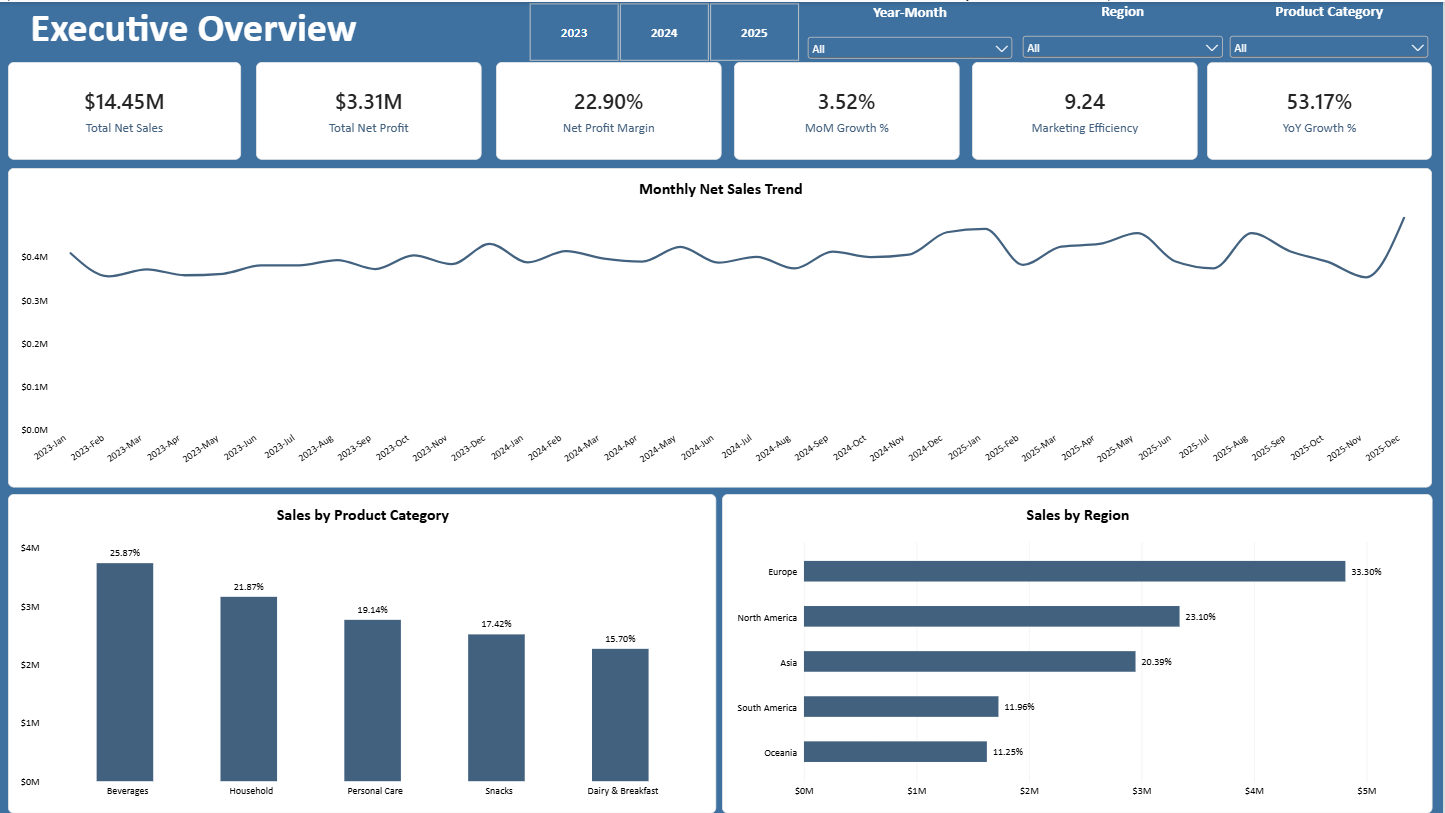

What the dashboard file says about the page in this screenshot:
{"tool":"powerbi","page":{"name":"Executive Overview","canvas":[1920,1080],"ordinal":0},"visuals":[{"type":"textbox","box":[0,1.5,721.1,78.6],"z":0},{"type":"slicer","title":"Year-Month","fields":{"Values":["Calendar Table.Year-Month"]},"box":[1071.4,1.5,282,78.3],"z":0,"group":"g1"},{"type":"slicer","fields":{"Values":["Calendar Table.Year"]},"box":[685.1,0,397.6,80.1],"z":1000,"group":"g1"},{"type":"card","fields":{"Values":["Measure Table.Total Net Sales"]},"box":[12.2,80.1,309.6,130.4],"z":1000},{"type":"slicer","title":"Region","fields":{"Values":["Working_01.Region"]},"box":[1356.5,0,275.7,79.8],"z":2000,"group":"g1"},{"type":"card","fields":{"Values":["Measure Table.Total Net Profit"]},"box":[341.7,80.1,300,130],"z":2000},{"type":"slicer","title":"Product Category","fields":{"Values":["Working_01.Product_Category"]},"box":[1632.2,0,274.2,79.8],"z":3000,"group":"g1"},{"type":"card","fields":{"Values":["Measure Table.Net Profit Margin"]},"box":[660.7,80.1,300,130],"z":3000},{"type":"card","fields":{"Values":["Measure Table.YoY Growth %"]},"box":[1607.1,80.1,299.3,130],"z":4000},{"type":"card","fields":{"Values":["Measure Table.MoM Growth %"]},"box":[978.1,80.1,300,130],"z":5000},{"type":"card","fields":{"Values":["Measure Table.Marketing Efficiency"]},"box":[1294.1,80.1,300,130],"z":6000},{"type":"group","id":"g1","title":"Group 1","box":[685.1,0,1221.3,80.1],"z":7000},{"type":"lineChart","title":"Monthly Net Sales Trend","fields":{"Category":["Calendar Table.Year-Month"],"Y":["Measure Table.Total Net Sales"]},"box":[12.2,221.3,1894.2,425],"z":8000},{"type":"columnChart","title":"Sales by Product Category","fields":{"Category":["Working_01.Product_Category"],"Y":["Measure Table.Total Net Sales"]},"box":[12.2,654.5,942,425],"z":9000},{"type":"barChart","title":"Sales by Region","fields":{"Category":["Working_01.Region"],"Y":["Measure Table.Total Net Sales"]},"box":[961.4,654.5,945.1,425],"z":10000}]}

Visuals, with their boxes in screenshot pixels (x1, y1, x2, y2), scaled from the page's 1920x1080 canvas onto the 1445x813 screenshot:
textbox: (0,1,543,60)
"Year-Month" slicer: (806,1,1019,60)
slicer - Calendar Table.Year: (516,0,815,60)
card - Measure Table.Total Net Sales: (9,60,242,158)
"Region" slicer: (1021,0,1228,60)
card - Measure Table.Total Net Profit: (257,60,483,158)
"Product Category" slicer: (1228,0,1435,60)
card - Measure Table.Net Profit Margin: (497,60,723,158)
card - Measure Table.YoY Growth %: (1210,60,1435,158)
card - Measure Table.MoM Growth %: (736,60,962,158)
card - Measure Table.Marketing Efficiency: (974,60,1200,158)
"Group 1" group: (516,0,1435,60)
"Monthly Net Sales Trend" lineChart: (9,167,1435,487)
"Sales by Product Category" columnChart: (9,493,718,812)
"Sales by Region" barChart: (724,493,1435,812)
